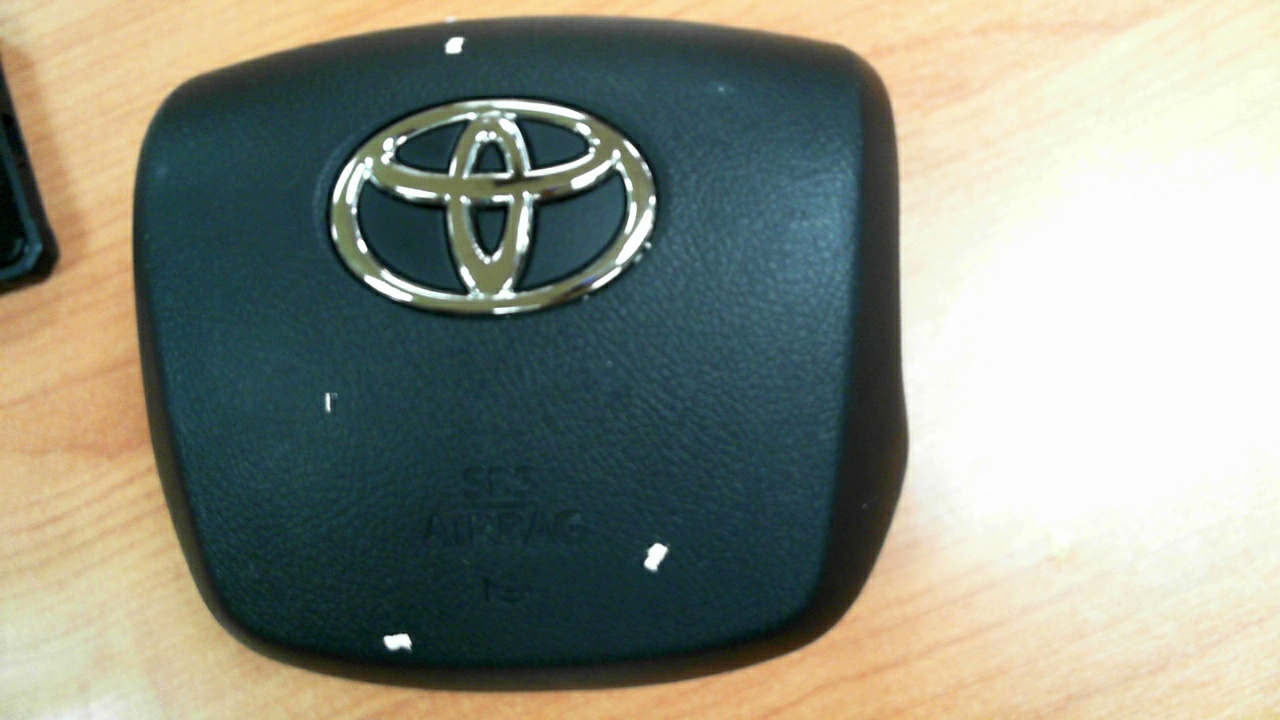Airbag: (131, 16, 917, 694)
Mark: (642, 542, 671, 573), (383, 632, 414, 652), (324, 391, 340, 414), (444, 36, 464, 54), (717, 86, 725, 92)
